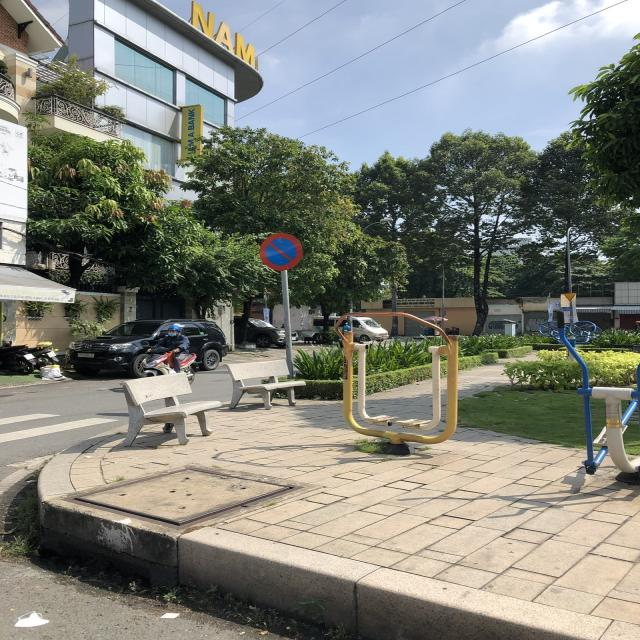Bien bao cam do xe: (254, 232, 304, 273)
